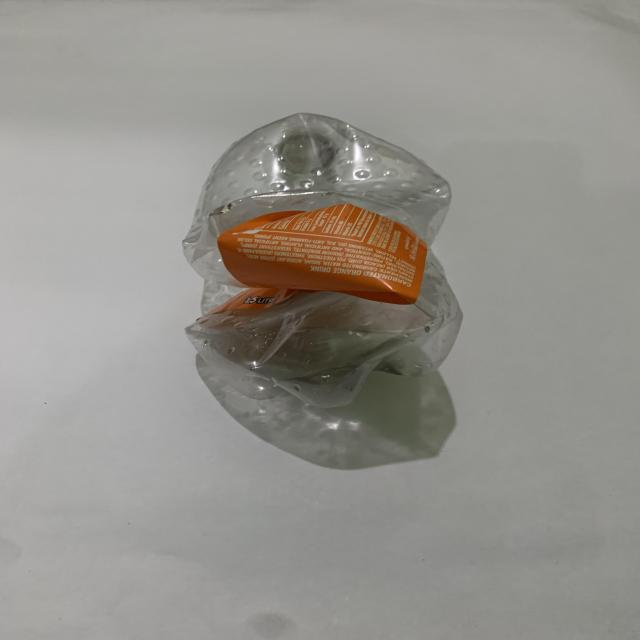bottle: (171, 112, 511, 410)
